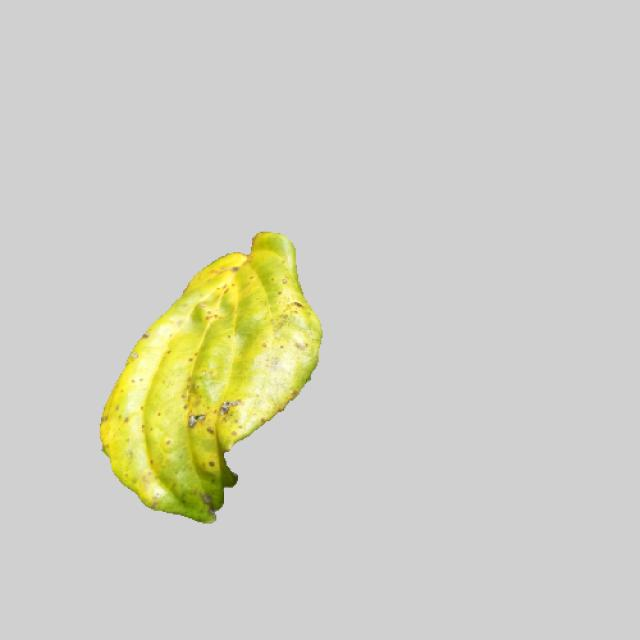yellow-mottle-virus: (91, 226, 330, 520)
